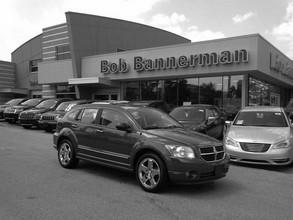car: (52, 105, 233, 194)
